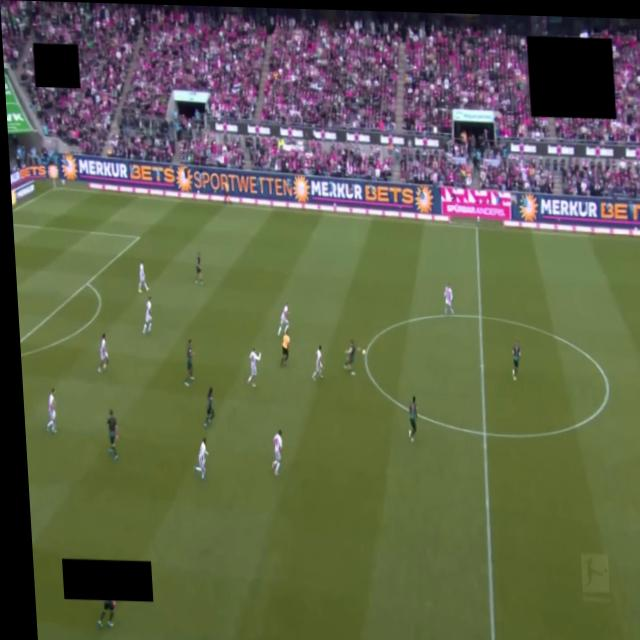ball: (362, 349, 365, 354)
player: (245, 348, 263, 388), (194, 438, 208, 478), (108, 411, 118, 461), (98, 601, 116, 628), (272, 431, 282, 475), (46, 389, 56, 433), (185, 340, 194, 386), (204, 388, 214, 428), (408, 397, 417, 441), (98, 333, 108, 372), (346, 340, 357, 375), (313, 345, 323, 380), (143, 297, 152, 334), (512, 342, 520, 381), (138, 262, 148, 293), (278, 304, 288, 335), (444, 285, 454, 315), (196, 253, 203, 285)
referee: (281, 335, 290, 367)
